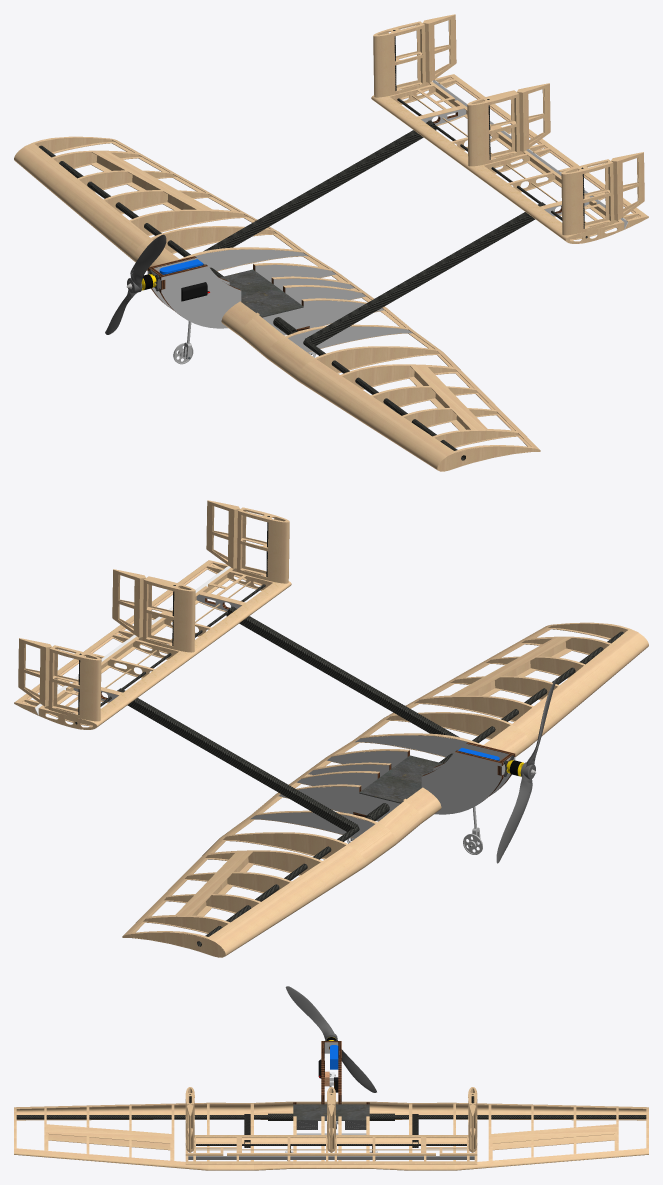
File: AeronaveDB2024.glb
3 views of the same model, one above another, from view 1: azimuth 30°, elevation 25°; view 2: azimuth 150°, elevation 25°; view 3: azimuth 270°, elevation 25° (orthographic). The views are drawn at different scales.
Visible parts, largest first — view 1: Nervuras Asa (×2), Solid14, Sólido1 (×3), Nariz, borda de Ataque EV, Solid24, Borda de Ataque Superior, Solid9, Suporte, Borda de Ataque Leme, Capstrips EV, Borda de Fuga EV (+14 smaller); view 2: Nervuras Asa (×2), Solid14, Sólido1 (×3), Nariz, borda de Ataque EV, Solid24, Borda de Ataque Superior, Solid9, Suporte, Borda de Ataque Leme, Solid1, Capstrips EV (+14 smaller); view 3: Solid9, Solid14, Sólido1 (×4), Solid18, Solid19, Solid24, Borda de ataque inferior, Solid23, Solid1, Suporte, Chapeado Profundor, Profundor Superior (+14 smaller).
Part boxes in pixels (left/top/right/bottom): Nervuras Asa (×2): left=35, top=82, right=624, bottom=471; Solid14: left=14, top=143, right=456, bottom=470; Sólido1 (×3): left=39, top=120, right=545, bottom=460; Nariz: left=147, top=256, right=366, bottom=328; borda de Ataque EV: left=373, top=29, right=583, bottom=235; Solid24: left=33, top=136, right=532, bottom=452; Borda de Ataque Superior: left=371, top=95, right=577, bottom=239; Solid9: left=97, top=151, right=523, bottom=433; Suporte: left=220, top=269, right=303, bottom=317; Borda de Ataque Leme: left=423, top=19, right=623, bottom=220; Capstrips EV: left=388, top=22, right=610, bottom=231; Borda de Fuga EV: left=416, top=21, right=614, bottom=224; Nervuras Asa (×2): left=38, top=568, right=627, bottom=957; Solid14: left=206, top=629, right=648, bottom=956; Sólido1 (×3): left=117, top=606, right=623, bottom=946; Nariz: left=296, top=742, right=515, bottom=814; borda de Ataque EV: left=79, top=515, right=289, bottom=721; Solid24: left=130, top=622, right=629, bottom=938; Borda de Ataque Superior: left=85, top=581, right=291, bottom=725; Solid9: left=139, top=637, right=565, bottom=919; Suporte: left=359, top=755, right=442, bottom=803; Borda de Ataque Leme: left=39, top=505, right=239, bottom=706; Solid1: left=496, top=678, right=557, bottom=863; Capstrips EV: left=52, top=508, right=274, bottom=717; Solid9: left=45, top=1127, right=617, bottom=1167; Solid14: left=14, top=1101, right=648, bottom=1112; Sólido1 (×4): left=16, top=1113, right=646, bottom=1147; Solid18: left=16, top=1107, right=646, bottom=1120; Solid19: left=14, top=1148, right=648, bottom=1170; Solid24: left=14, top=1102, right=648, bottom=1161; Borda de ataque inferior: left=196, top=1138, right=466, bottom=1143; Solid23: left=44, top=1124, right=618, bottom=1160; Solid1: left=285, top=986, right=376, bottom=1092; Suporte: left=293, top=1104, right=369, bottom=1120; Chapeado Profundor: left=188, top=1156, right=474, bottom=1159; Profundor Superior: left=185, top=1155, right=477, bottom=1163.
Size of the model in its own units: 1.45 by 0.6328 by 2.5.
Materials: 32 (10 with a texture image).
